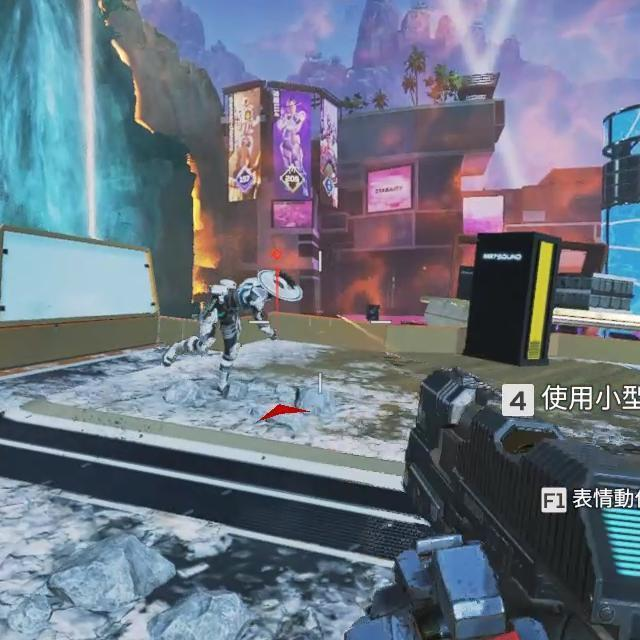avatar: (197, 268, 304, 400)
